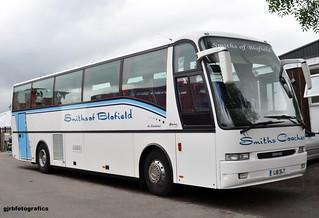bus: (12, 30, 312, 194)
